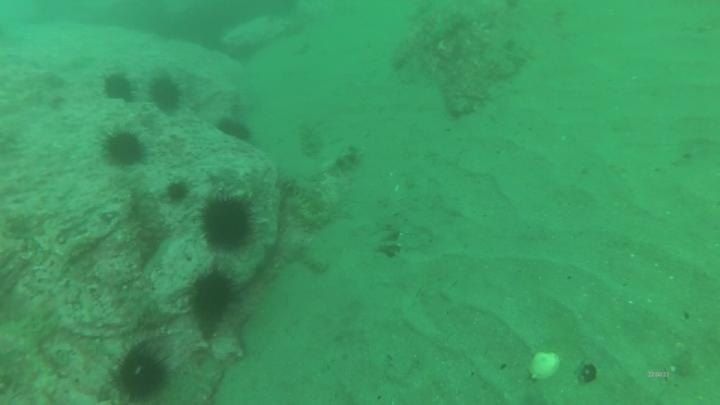echinus: (196, 191, 259, 255), (109, 341, 173, 402), (185, 266, 241, 327), (100, 127, 149, 170), (147, 73, 185, 116), (215, 114, 255, 146), (100, 71, 137, 104), (162, 177, 193, 205)
holothurian: (279, 170, 333, 233), (325, 143, 364, 179), (295, 120, 327, 161)
scallop: (526, 349, 562, 383)
